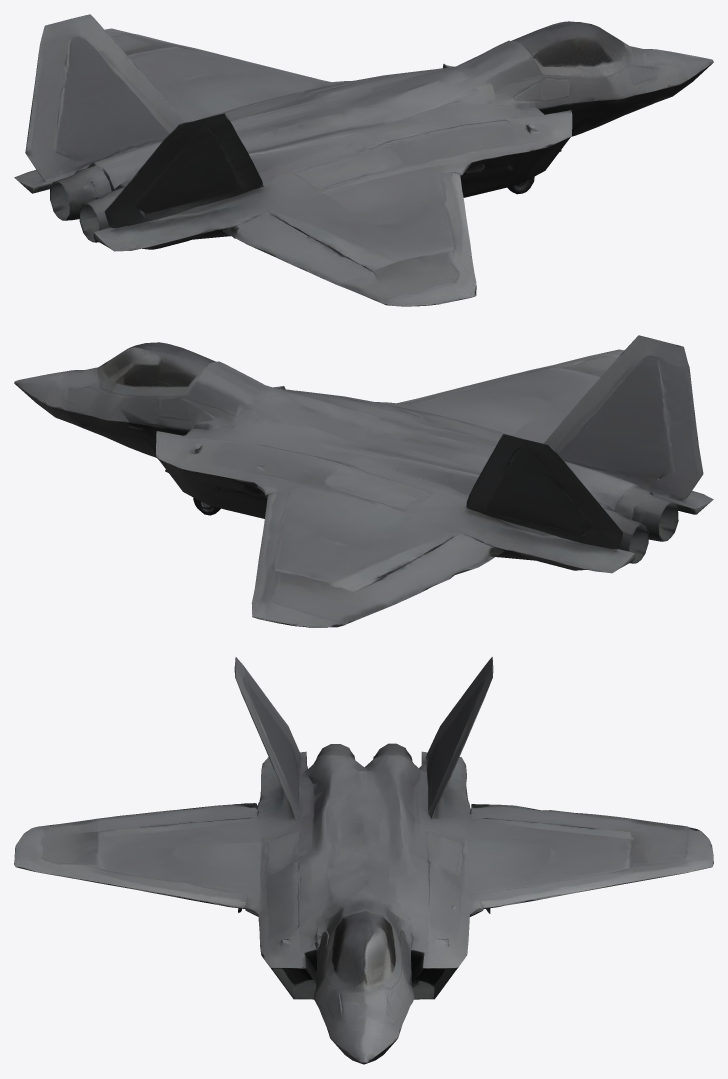
File: caca_furtivo.glb
The picture shows the model from 3 angles, top to bottom: view 1: azimuth 30°, elevation 25°; view 2: azimuth 150°, elevation 25°; view 3: azimuth 270°, elevation 25°; orthographic projection. The views are drawn at different scales.
Visible parts, largest first — view 1: tripo_node_35e4edde-9add-4c41-8c50-5d7532918821; view 2: tripo_node_35e4edde-9add-4c41-8c50-5d7532918821; view 3: tripo_node_35e4edde-9add-4c41-8c50-5d7532918821.
Part boxes in pixels (x1,y1,x2,y2): tripo_node_35e4edde-9add-4c41-8c50-5d7532918821: (14, 14, 713, 306); tripo_node_35e4edde-9add-4c41-8c50-5d7532918821: (14, 335, 713, 627); tripo_node_35e4edde-9add-4c41-8c50-5d7532918821: (14, 657, 713, 1064).
Size of the model in its own units: 1 by 0.3228 by 0.9767.
Materials: 1 (1 with a texture image).
